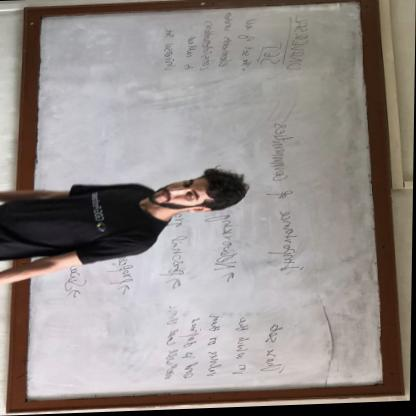Handwritten text: (258, 116, 312, 276), (201, 214, 246, 273), (259, 315, 294, 380), (204, 310, 229, 382), (230, 314, 255, 381), (289, 15, 315, 74), (181, 314, 203, 383), (164, 233, 192, 280), (238, 17, 260, 73), (217, 10, 236, 71), (159, 26, 180, 75), (201, 20, 216, 78), (261, 41, 286, 68), (183, 32, 198, 74)
Lecturer: (0, 154, 265, 270)
